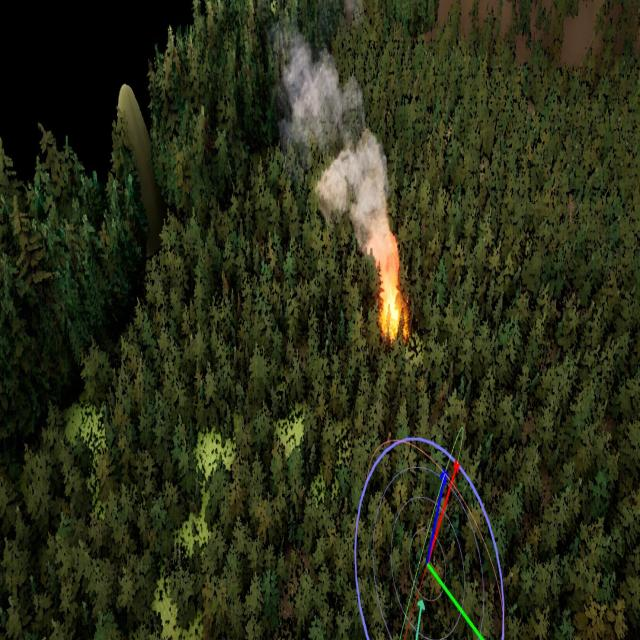fire: (374, 272, 411, 340)
smoke: (278, 38, 405, 274)
